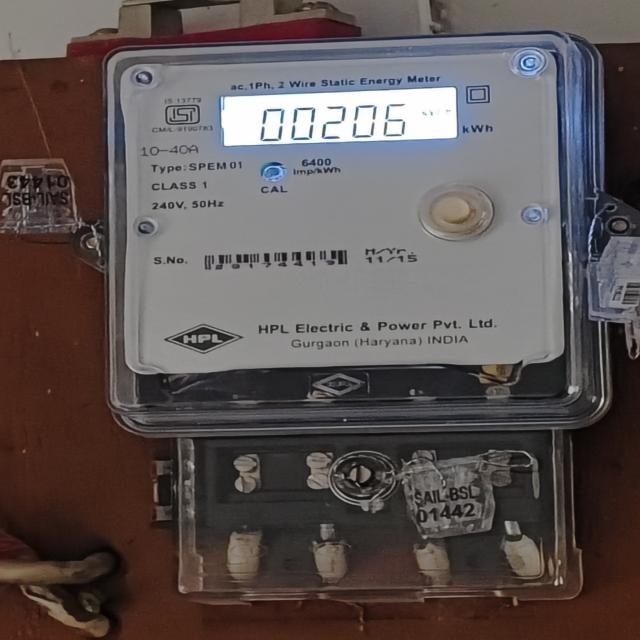display: (219, 88, 462, 144)
